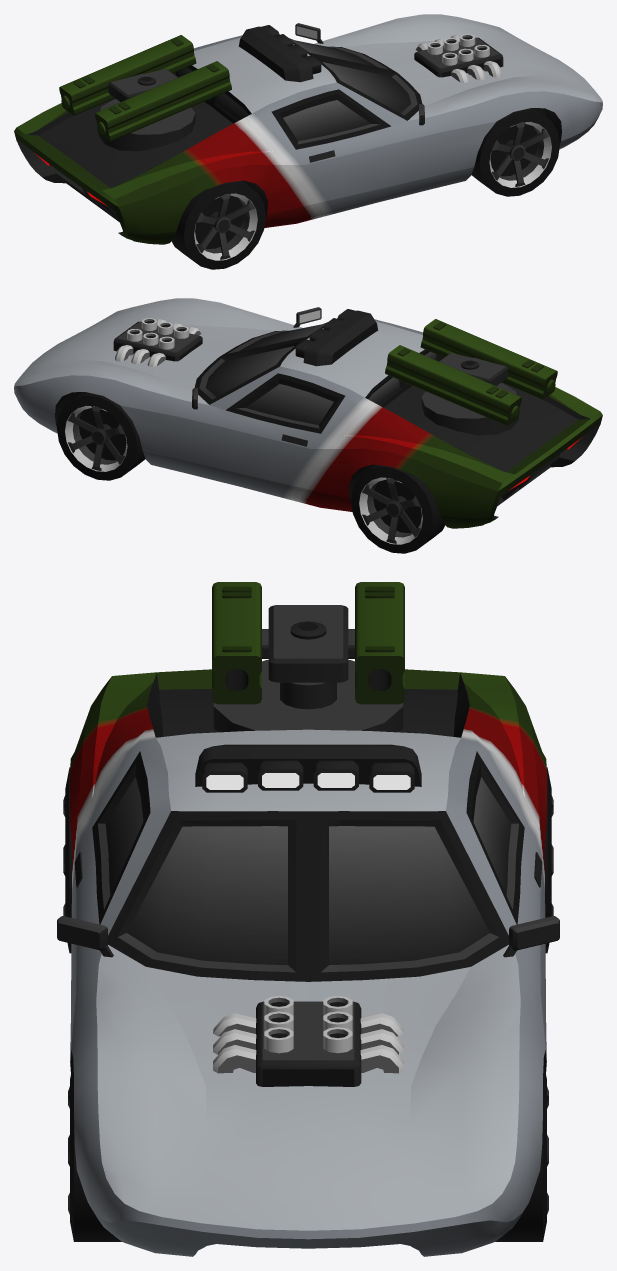
File: Car_230.glb
3 renders of one model, top to bottom at view 1: azimuth 30°, elevation 25°; view 2: azimuth 150°, elevation 25°; view 3: azimuth 270°, elevation 25°, orthographic. The views are drawn at different scales.
Parts seen in each view (by area): view 1: Car_230, wheel_3_Car_230_Wheel_2R, wheel_1_Car_230_Wheel_1R; view 2: Car_230, wheel_2_Car_230_Wheel_2L, wheel_0_Car_230_Wheel_1L; view 3: Car_230, wheel_1_Car_230_Wheel_1R, wheel_0_Car_230_Wheel_1L, wheel_3_Car_230_Wheel_2R, wheel_2_Car_230_Wheel_2L.
Part boxes in pixels (x1,y1,x2,y2): Car_230: (14, 14, 602, 244); wheel_3_Car_230_Wheel_2R: (171, 181, 265, 269); wheel_1_Car_230_Wheel_1R: (471, 108, 559, 196); Car_230: (14, 298, 602, 528); wheel_2_Car_230_Wheel_2L: (351, 465, 445, 553); wheel_0_Car_230_Wheel_1L: (57, 392, 145, 480); Car_230: (57, 582, 559, 1256); wheel_1_Car_230_Wheel_1R: (68, 1063, 121, 1241); wheel_0_Car_230_Wheel_1L: (495, 1063, 548, 1241); wheel_3_Car_230_Wheel_2R: (63, 767, 72, 953); wheel_2_Car_230_Wheel_2L: (544, 767, 553, 953).
Bounding box in the file's own units: 4.38 × 1.33 × 1.85.
Materials: 2 (2 with a texture image).
